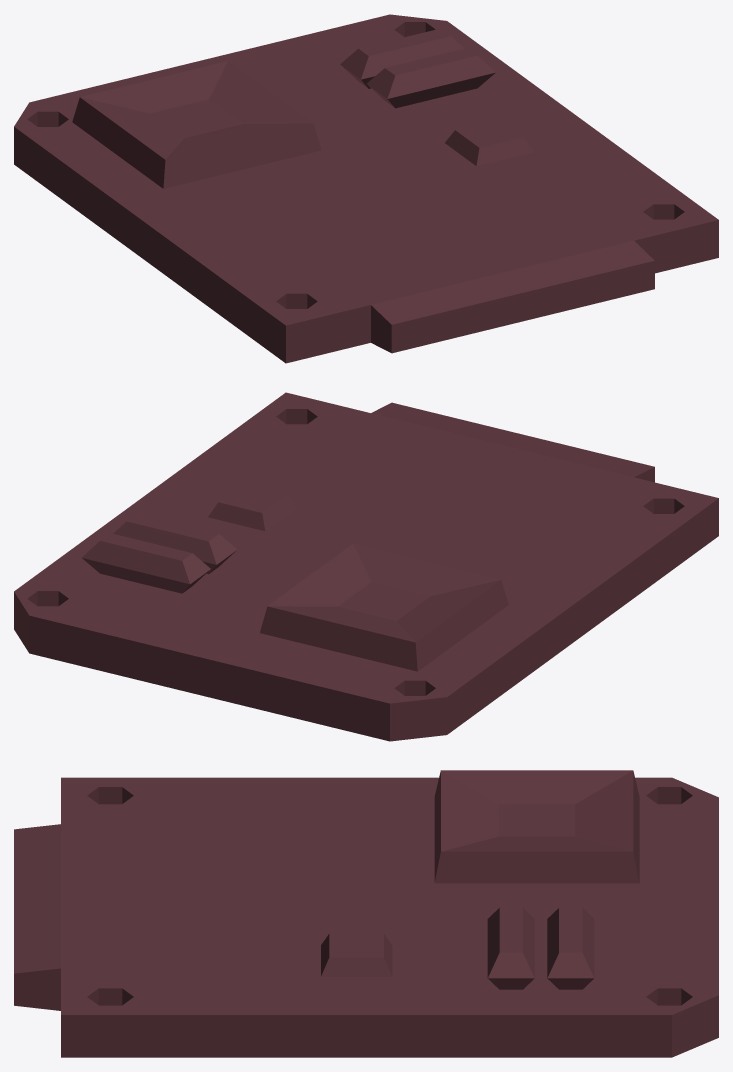
Rendered from printed-circuit.fbx.
3 views of the same model, one above another, from view 1: azimuth 30°, elevation 25°; view 2: azimuth 150°, elevation 25°; view 3: azimuth 270°, elevation 25° (orthographic). The views are drawn at different scales.
Visible parts, largest first — view 1: printed-circuit; view 2: printed-circuit; view 3: printed-circuit.
Boxes of the visible parts, x1,y1,x2,y2 form: printed-circuit: (14, 14, 718, 363); printed-circuit: (14, 392, 718, 741); printed-circuit: (14, 770, 718, 1057).
Size of the model in its own units: 0.1196 by 0.0187 by 0.15.
